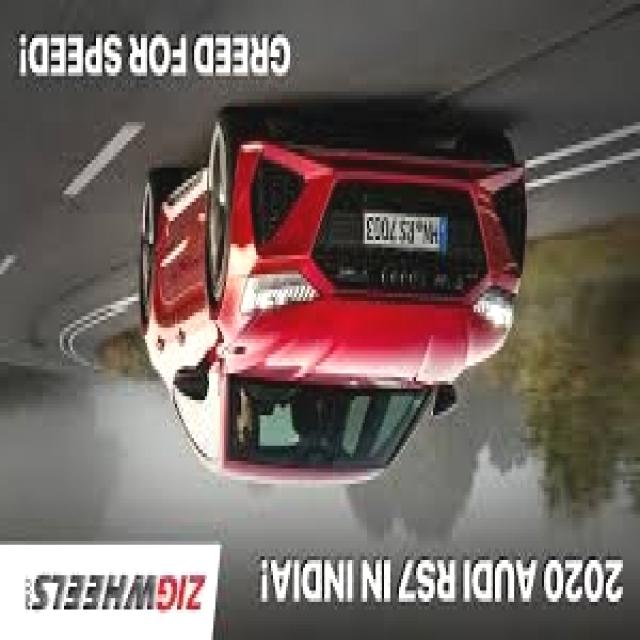red: (143, 140, 527, 486)
